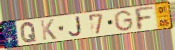7: (87, 13, 104, 35)
F: (133, 6, 156, 31)
G: (113, 10, 135, 32)
J: (68, 16, 84, 38)
K: (39, 18, 58, 41)
Q: (20, 21, 38, 44)
